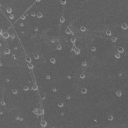corrosion: (32, 108, 45, 116), (6, 7, 14, 20), (72, 46, 82, 56), (114, 88, 123, 98), (119, 22, 128, 31), (78, 25, 88, 33), (64, 27, 73, 35), (40, 120, 49, 128), (2, 32, 10, 40), (80, 88, 88, 96), (3, 47, 11, 55), (22, 84, 29, 92), (24, 56, 32, 63), (69, 37, 77, 44), (28, 62, 34, 71), (79, 72, 86, 79), (19, 14, 26, 21), (114, 52, 121, 59), (11, 88, 18, 95), (31, 84, 38, 91), (105, 29, 112, 36), (90, 45, 97, 52), (56, 44, 63, 51), (33, 53, 40, 60), (49, 58, 57, 64), (36, 13, 44, 19), (64, 94, 71, 100), (81, 61, 88, 67), (59, 17, 65, 23), (107, 115, 113, 121), (45, 75, 51, 81), (51, 87, 57, 93), (59, 1, 68, 5)
